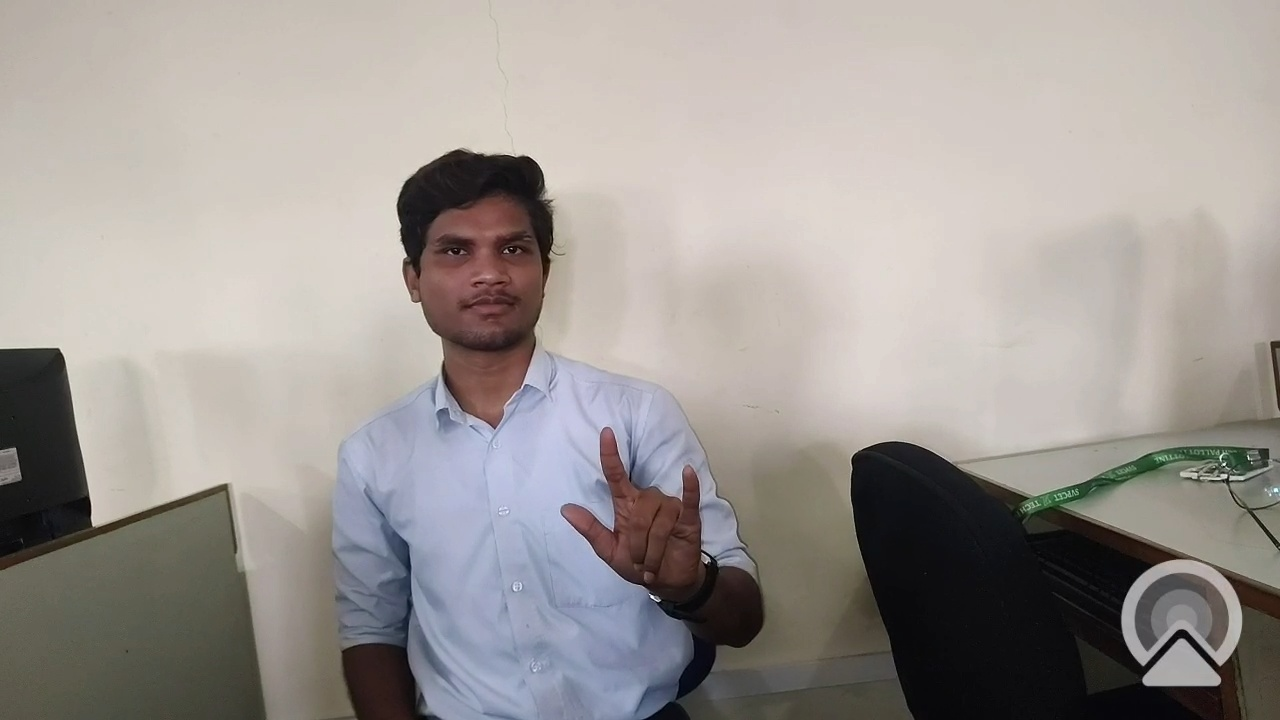I love you: (555, 409, 727, 611)
